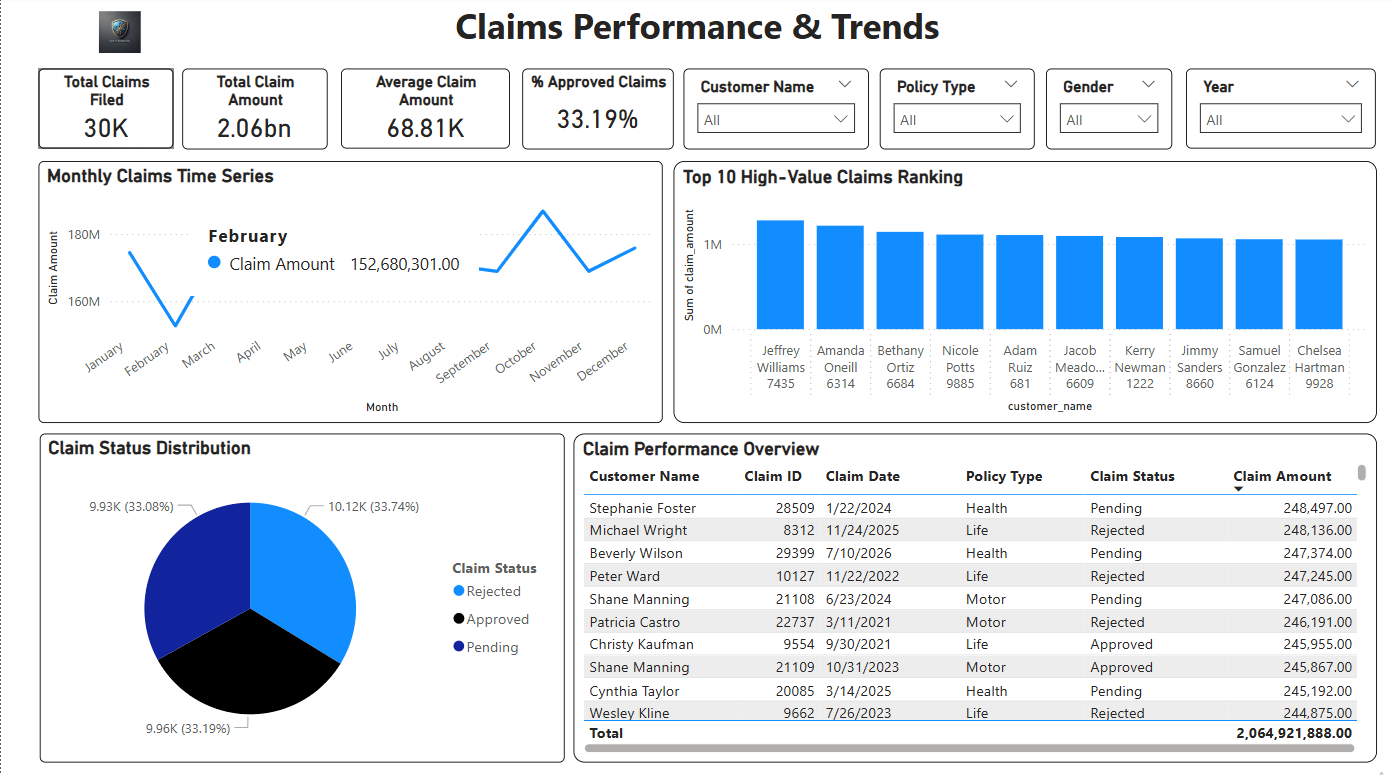

This screenshot's page, from the dashboard's own definition file:
{"tool":"powerbi","page":{"name":"Claims Performance & Trends","canvas":[1280,720],"ordinal":1},"visuals":[{"type":"card","title":"Total Claims Filed","fields":{"Values":["Measures Table.Total Claims Filed"]},"box":[33.7,64.8,197,64.8],"z":0},{"type":"card","title":"Total Claim Amount","fields":{"Values":["Measures Table.Total Claim Amount"]},"box":[252.3,64.8,197,64.8],"z":1000},{"type":"card","title":"Average Claim Amount","fields":{"Values":["Measures Table.Average Claim Amount"]},"box":[469.5,64.8,197,64.8],"z":2000},{"type":"card","title":"% Approved Claims","fields":{"Values":["Measures Table.% Approved Claims"]},"box":[688,64.8,197,64.8],"z":3000}]}

Visuals, with their boxes in screenshot pixels (x1, y1, x2, y2), scaled from the page's 1280x720 canvas onto the 1391x775 screenshot:
"Total Claims Filed" card: 37,70,251,140
"Total Claim Amount" card: 274,70,488,140
"Average Claim Amount" card: 510,70,724,140
"% Approved Claims" card: 748,70,962,140
